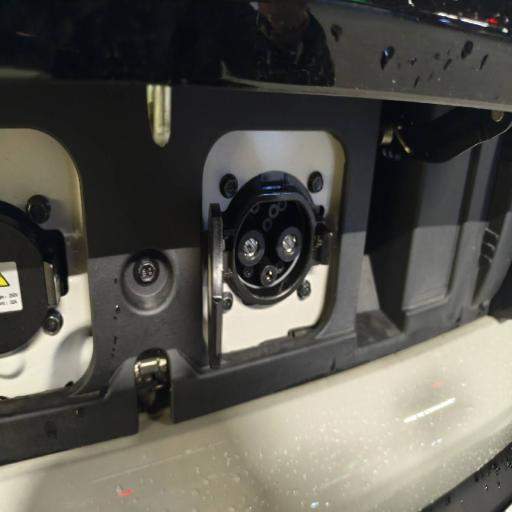DC_charging_port: (230, 189, 316, 307)
DC_hole: (238, 229, 265, 266), (276, 227, 303, 263)
PE: (260, 265, 277, 287)
